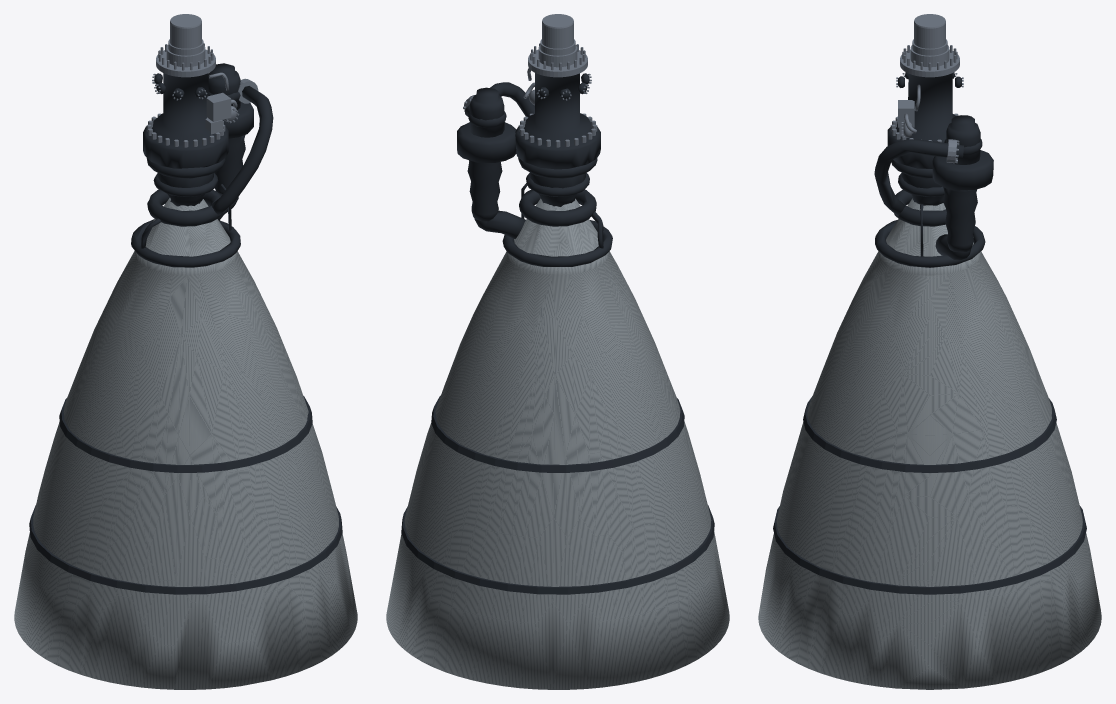
The model's file is raptor3vac.glb.
3 renders of one model, left to right at view 1: azimuth 30°, elevation 25°; view 2: azimuth 150°, elevation 25°; view 3: azimuth 270°, elevation 25°, orthographic.
Visible parts, largest first — view 1: raptor3vac_nozzle, raptor3vac_chamber, raptor3vac_disc_bolts; view 2: raptor3vac_nozzle, raptor3vac_chamber, raptor3vac_disc_bolts; view 3: raptor3vac_nozzle, raptor3vac_chamber, raptor3vac_disc_bolts.
Boxes of the visible parts, <box> form: raptor3vac_nozzle: <box>14,198,357,689</box>; raptor3vac_chamber: <box>29,63,342,594</box>; raptor3vac_disc_bolts: <box>146,14,258,147</box>; raptor3vac_nozzle: <box>386,198,729,689</box>; raptor3vac_chamber: <box>401,73,714,594</box>; raptor3vac_disc_bolts: <box>463,14,597,147</box>; raptor3vac_nozzle: <box>758,198,1101,689</box>; raptor3vac_chamber: <box>773,72,1086,594</box>; raptor3vac_disc_bolts: <box>890,14,963,163</box>.
Size of the model in its own units: 2.47 by 4.74 by 2.47.
3 materials, 1 textured.
